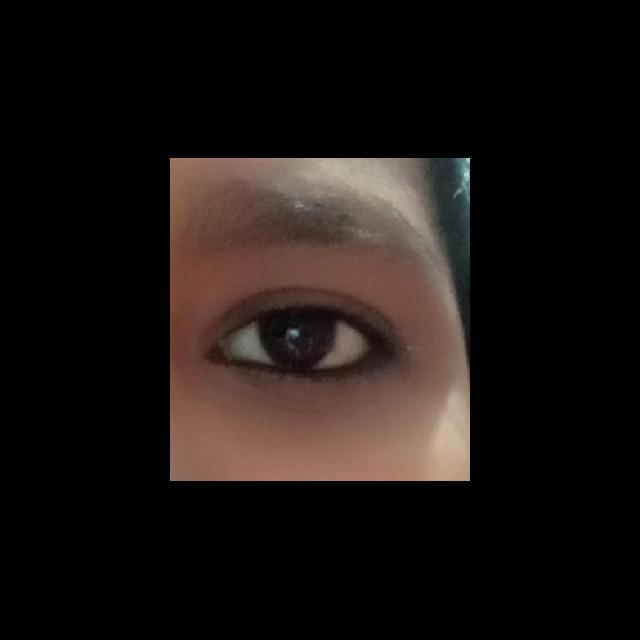eye: (224, 311, 374, 371)
iris: (258, 313, 337, 369)
